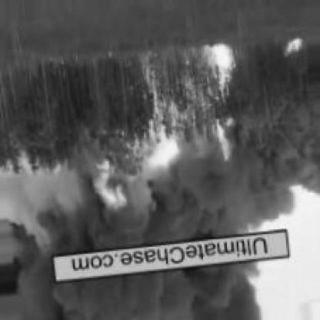Smoke: (88, 271, 240, 317)
